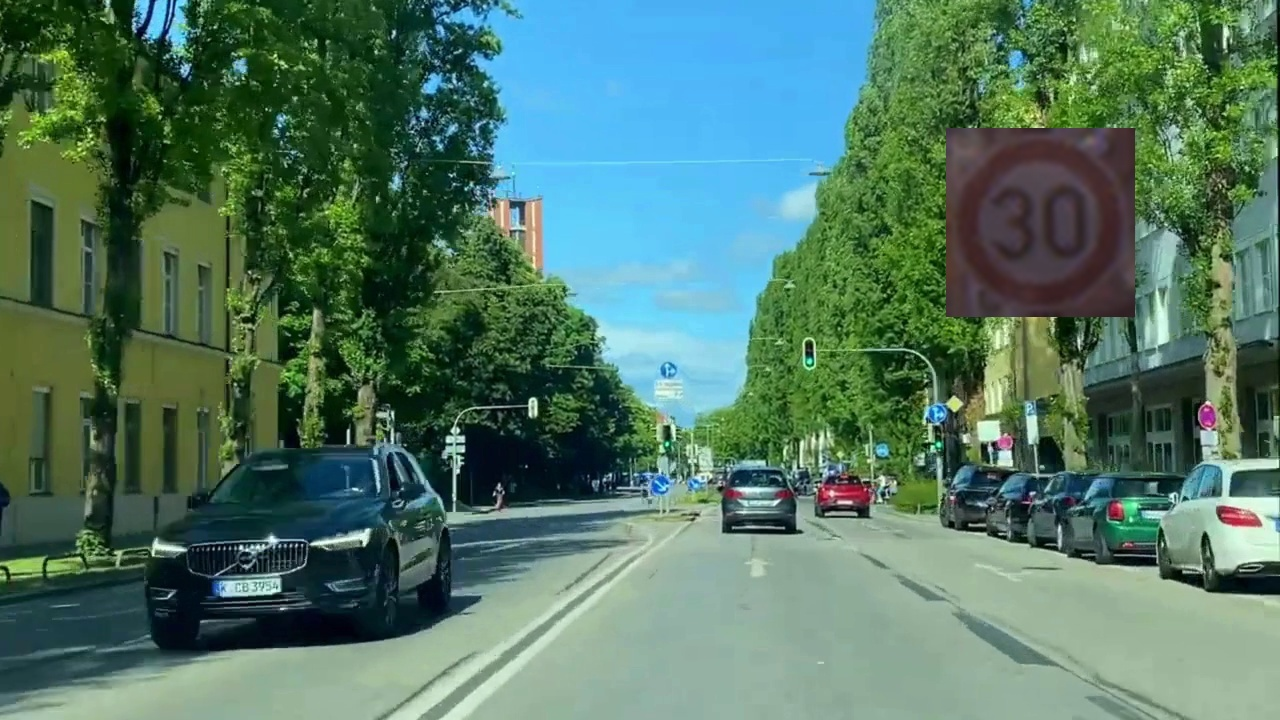Speed 30: (946, 128, 1135, 317)
